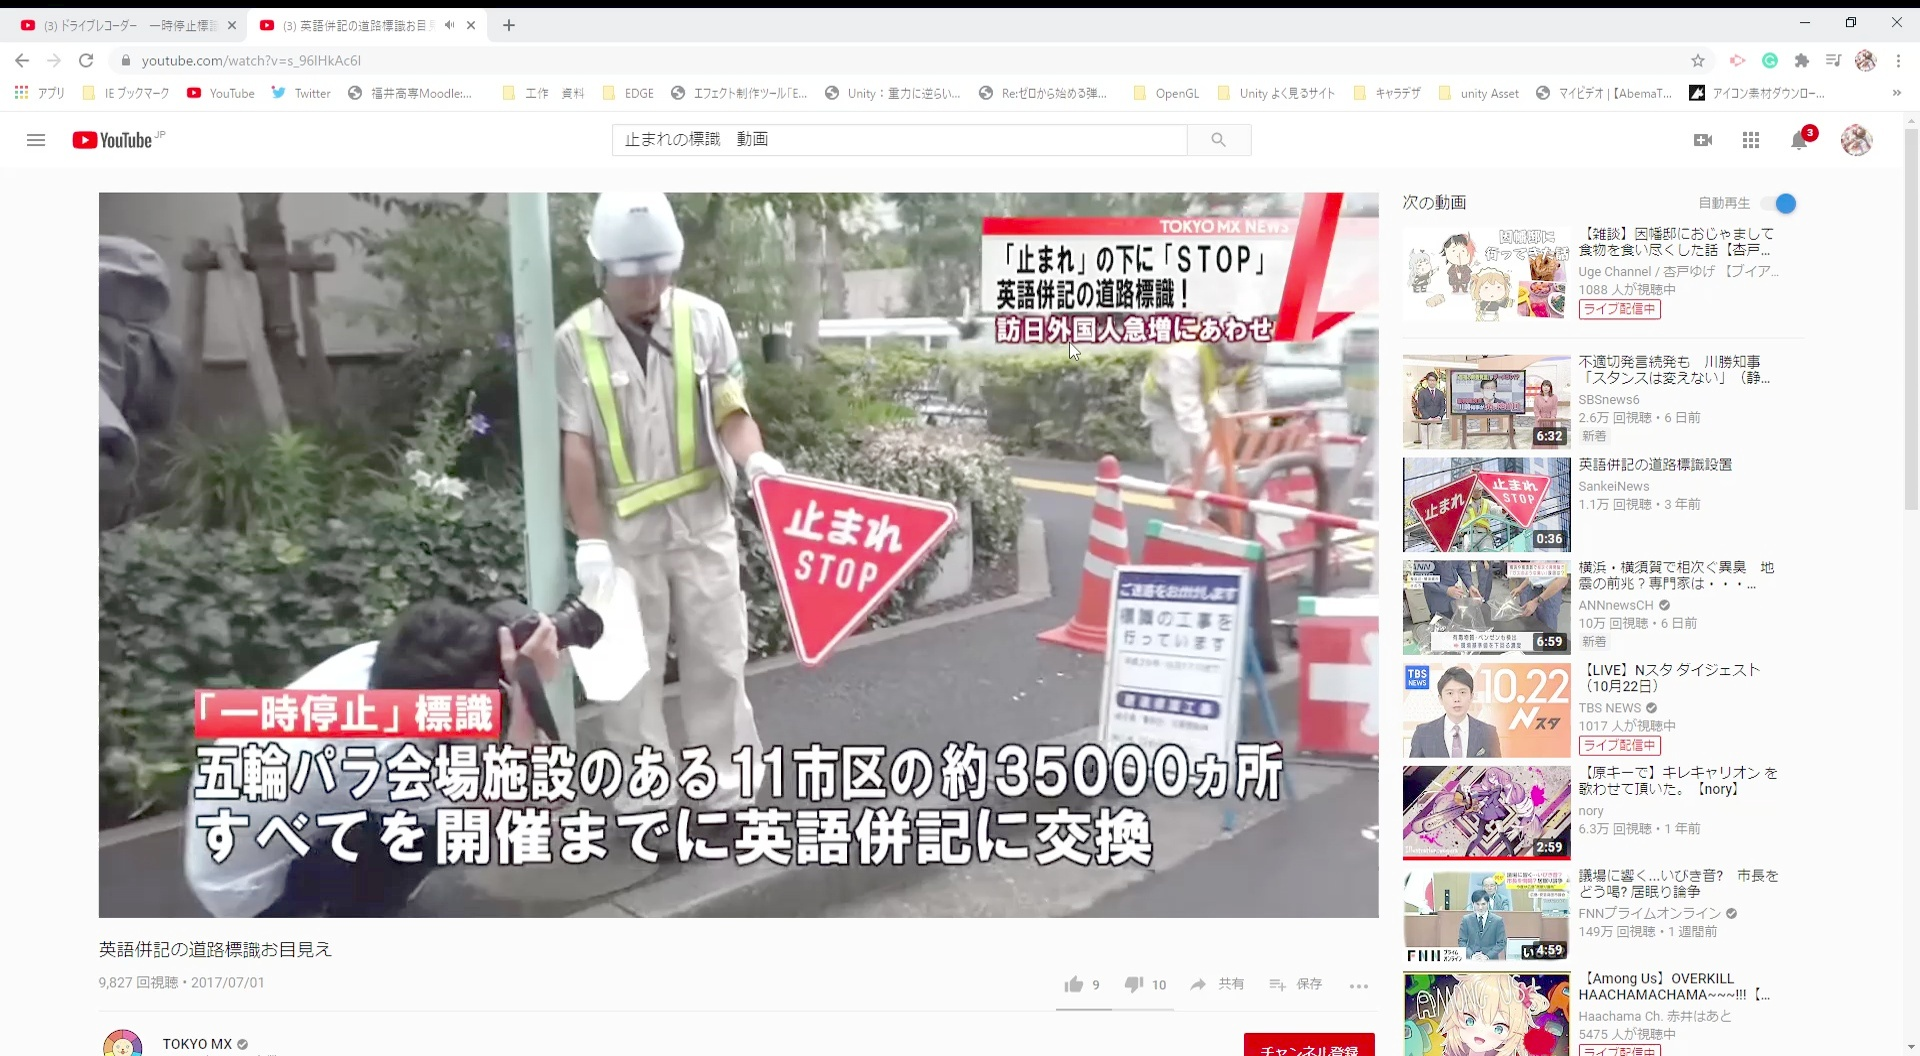Regulatory_sign_triangle: (738, 460, 976, 665)
